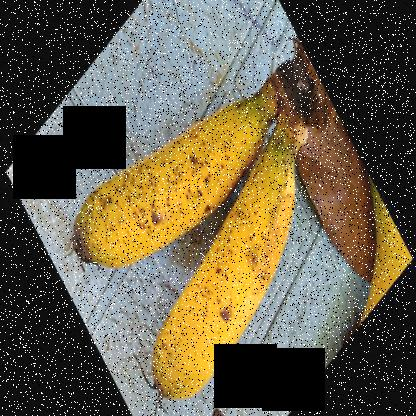ripe: (54, 94, 252, 277), (162, 158, 298, 395)
